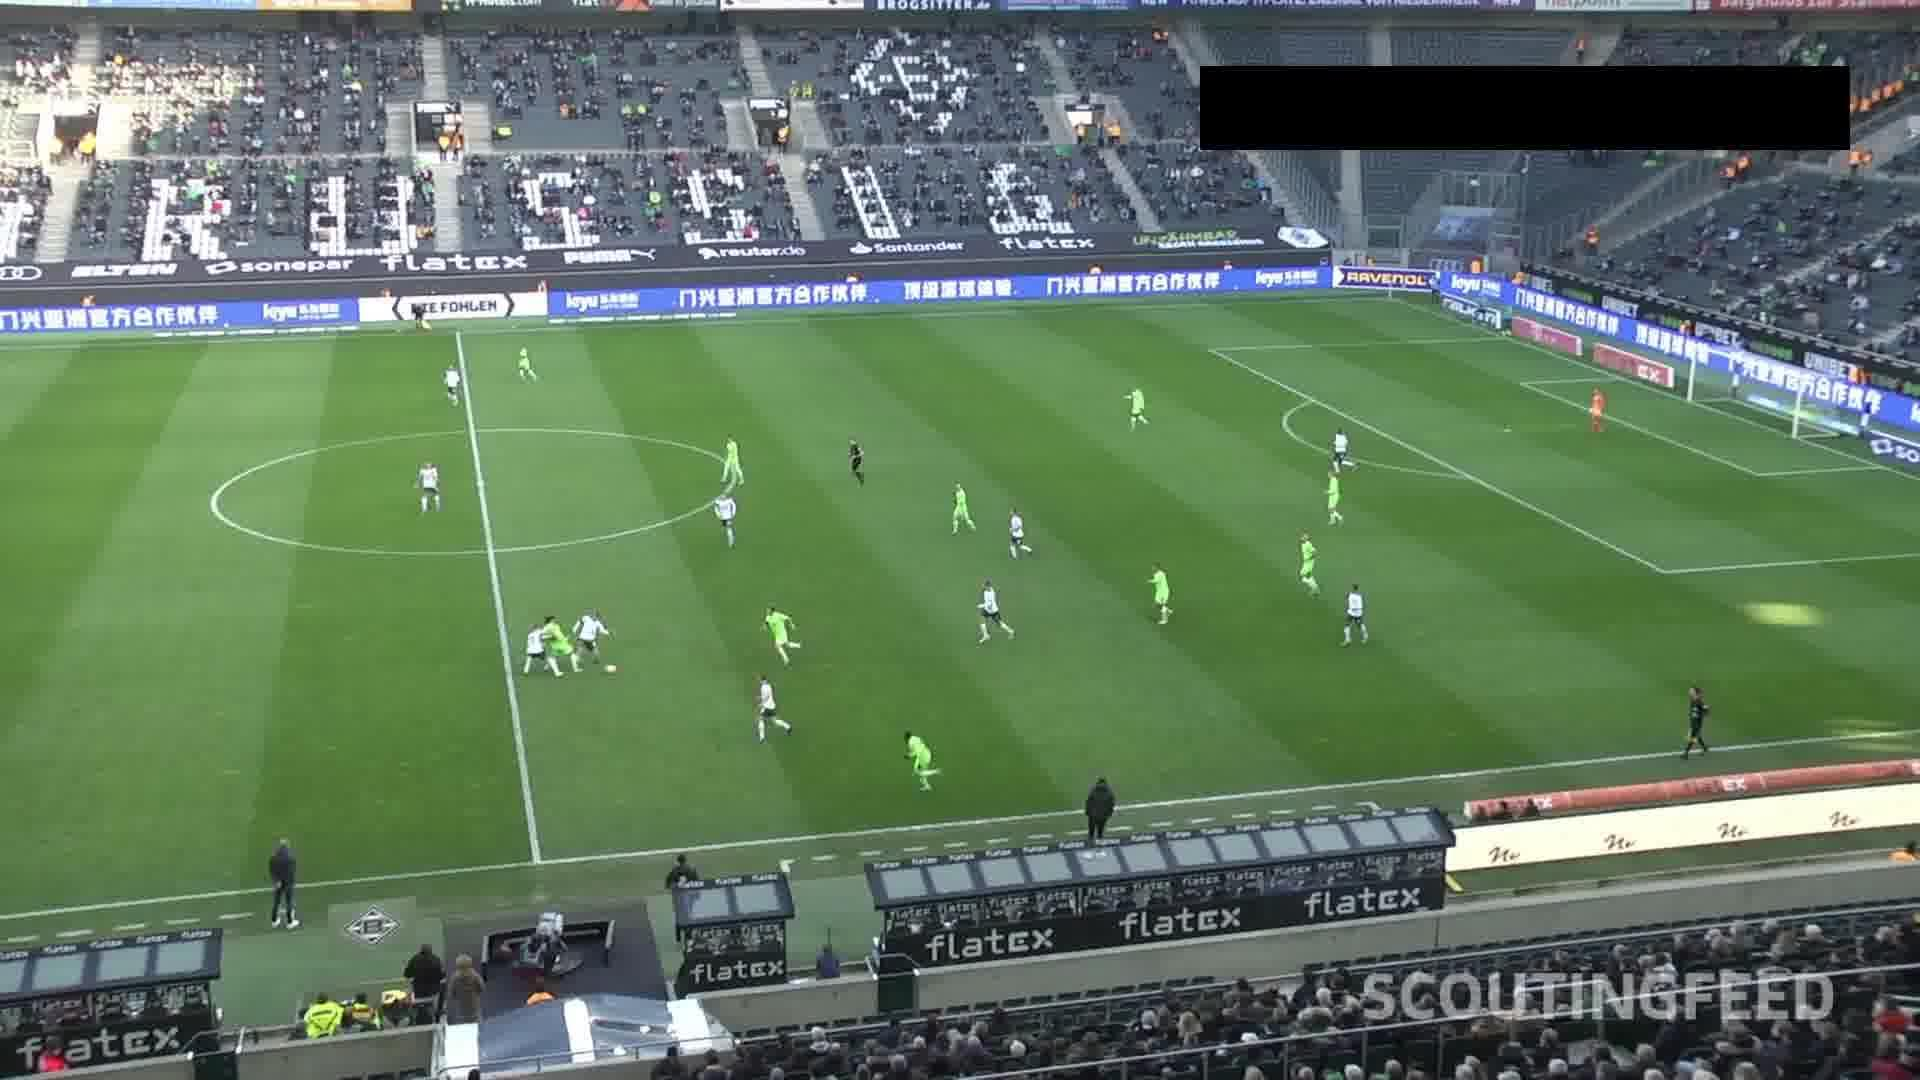football: (605, 663, 618, 676)
